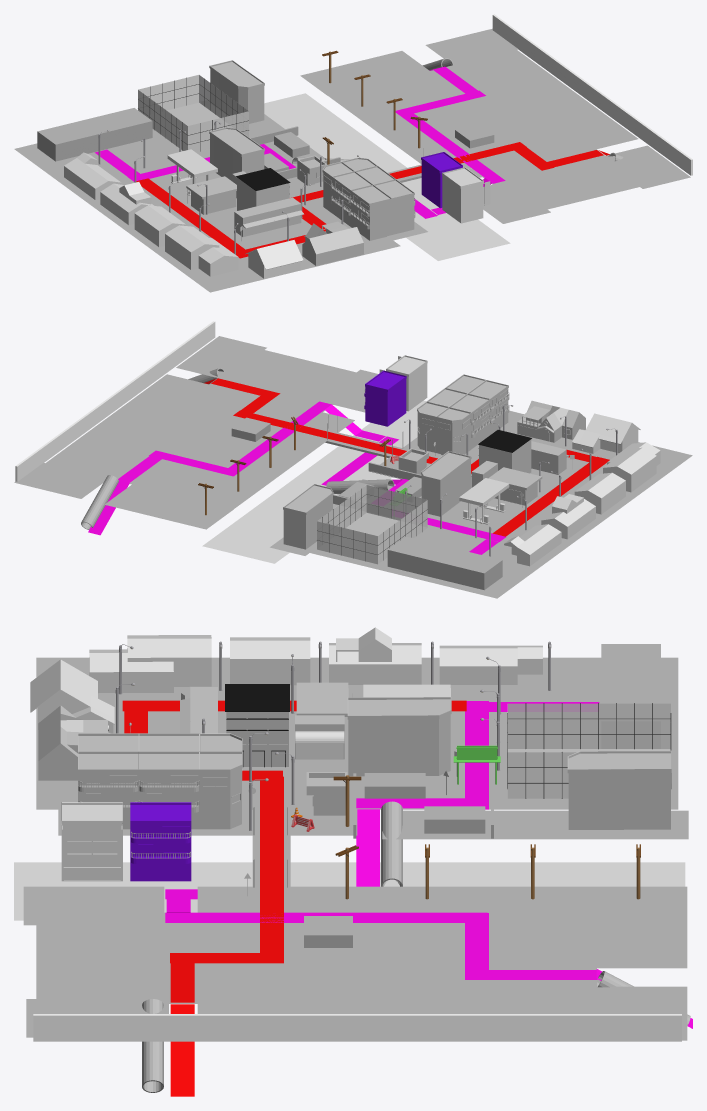
Rendered from MapaAtual.fbx.
3 renders of one model, top to bottom at view 1: azimuth 30°, elevation 25°; view 2: azimuth 150°, elevation 25°; view 3: azimuth 270°, elevation 25°, orthographic. The views are drawn at different scales.
Parts seen in each view (by area): view 1: Plane__15_, Plane__10_, Plane.001, Plane__26_, Plane.006, a2.002, Cube.001, Cube__42_, Cube__7_, Plane__22_, Plane__24_, Cube.019 (+31 smaller); view 2: Plane__15_, Plane__10_, Plane.001, Plane__26_, Plane.006, Cube.001, Plane__22_, Cube__42_, Cube__7_, a2.002, Plane__24_, a.001 (+34 smaller); view 3: Plane__15_, Plane__10_, Cube__7_, Cube.001, Plane.001, Plane__22_, Plane.006, a2.002, Plane__24_, Cube.019, Plane__23_, Plane__26_ (+43 smaller).
Part boxes in pixels (left/top/right/bottom): Plane__15_: left=363, top=60, right=645, bottom=212; Plane__10_: left=14, top=129, right=400, bottom=292; Plane.001: left=264, top=93, right=510, bottom=260; Plane__26_: left=472, top=49, right=638, bottom=150; Plane.006: left=138, top=75, right=248, bottom=152; a2.002: left=331, top=165, right=415, bottom=240; Cube.001: left=209, top=60, right=264, bottom=180; Cube__42_: left=37, top=108, right=152, bottom=161; Cube__7_: left=492, top=14, right=692, bottom=175; Plane__22_: left=328, top=84, right=497, bottom=177; Plane__24_: left=300, top=51, right=429, bottom=95; Cube.019: left=165, top=225, right=238, bottom=276; Plane__15_: left=87, top=348, right=371, bottom=501; Plane__10_: left=307, top=410, right=692, bottom=598; Plane.001: left=202, top=400, right=426, bottom=563; Plane__26_: left=45, top=374, right=213, bottom=474; Plane.006: left=317, top=485, right=427, bottom=564; Cube.001: left=283, top=451, right=471, bottom=549; Plane__22_: left=186, top=410, right=354, bottom=509; Cube__42_: left=387, top=536, right=502, bottom=590; Cube__7_: left=15, top=321, right=215, bottom=481; a2.002: left=426, top=374, right=509, bottom=449; Plane__24_: left=104, top=484, right=233, bottom=529; a.001: left=417, top=401, right=471, bottom=455; Plane__15_: left=36, top=912, right=596, bottom=1003; Plane__10_: left=36, top=657, right=678, bottom=809; Cube__7_: left=33, top=1014, right=681, bottom=1041; Cube.001: left=347, top=697, right=671, bottom=829; Plane.001: left=14, top=862, right=685, bottom=920; Plane__22_: left=197, top=886, right=596, bottom=925; Plane.006: left=507, top=703, right=670, bottom=798; a2.002: left=78, top=733, right=200, bottom=829; Plane__24_: left=596, top=886, right=687, bottom=968; Cube.019: left=89, top=635, right=211, bottom=693; Plane__23_: left=23, top=886, right=164, bottom=925; Plane__26_: left=197, top=999, right=596, bottom=1013.
Bounding box in the file's own units: 24166 × 3300 × 17808.
